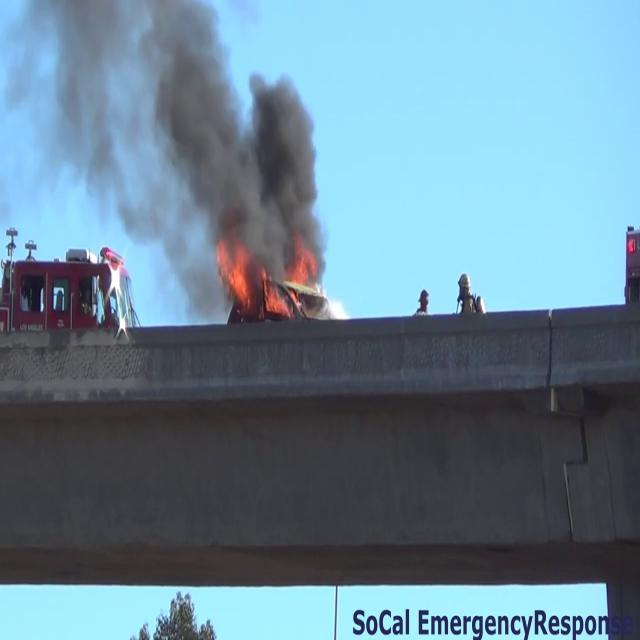Fire: (273, 252, 329, 315), (208, 235, 251, 305)
Smoke: (7, 0, 330, 278)
